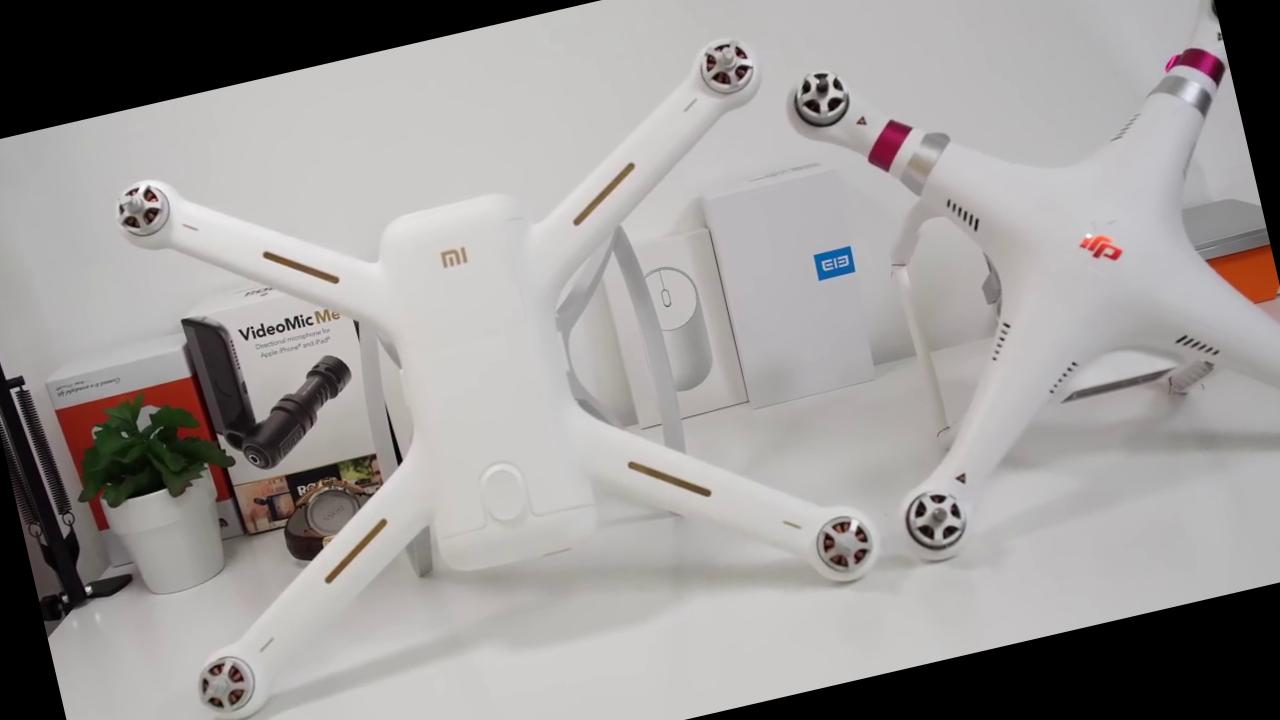drone: (63, 7, 887, 720), (761, 0, 1280, 584)
